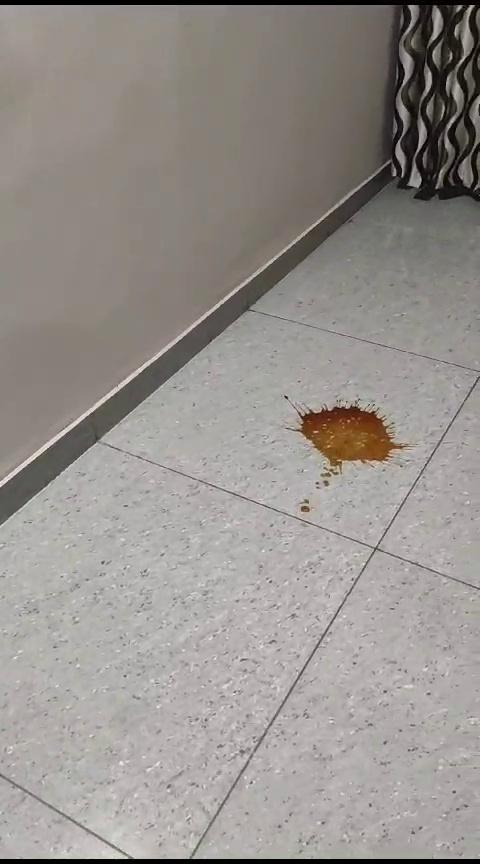dirty_floor: (285, 391, 414, 520)
